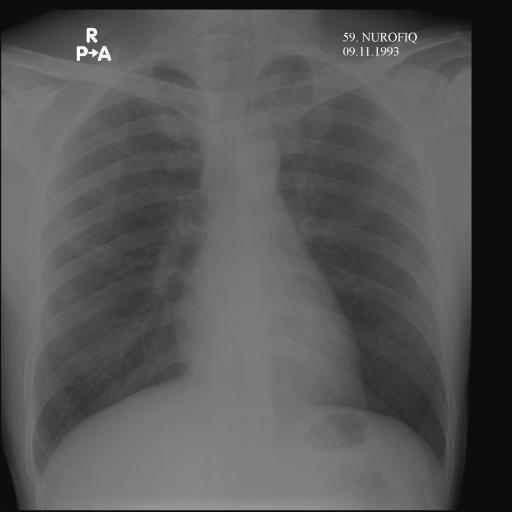normal: (21, 36, 454, 492)
